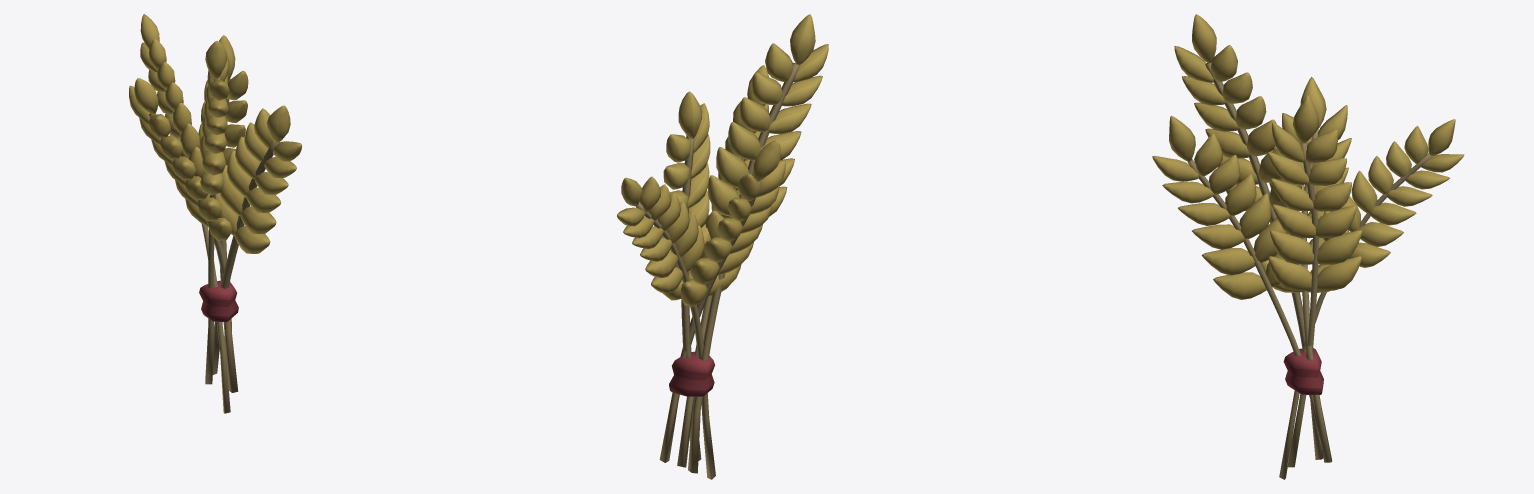
Rendered from 3D_Items_Weath.fbx.
3 views of the same model, side by side, from view 1: azimuth 30°, elevation 25°; view 2: azimuth 150°, elevation 25°; view 3: azimuth 270°, elevation 25° (orthographic). The views are drawn at different scales.
Parts seen in each view (by area): view 1: 3D_Items_Weath; view 2: 3D_Items_Weath; view 3: 3D_Items_Weath.
Part boxes in pixels (left/top/right/bottom): 3D_Items_Weath: left=129, top=14, right=301, bottom=413; 3D_Items_Weath: left=617, top=14, right=828, bottom=479; 3D_Items_Weath: left=1152, top=14, right=1464, bottom=479.
Size of the model in its own units: 96.09 by 111 by 112.
